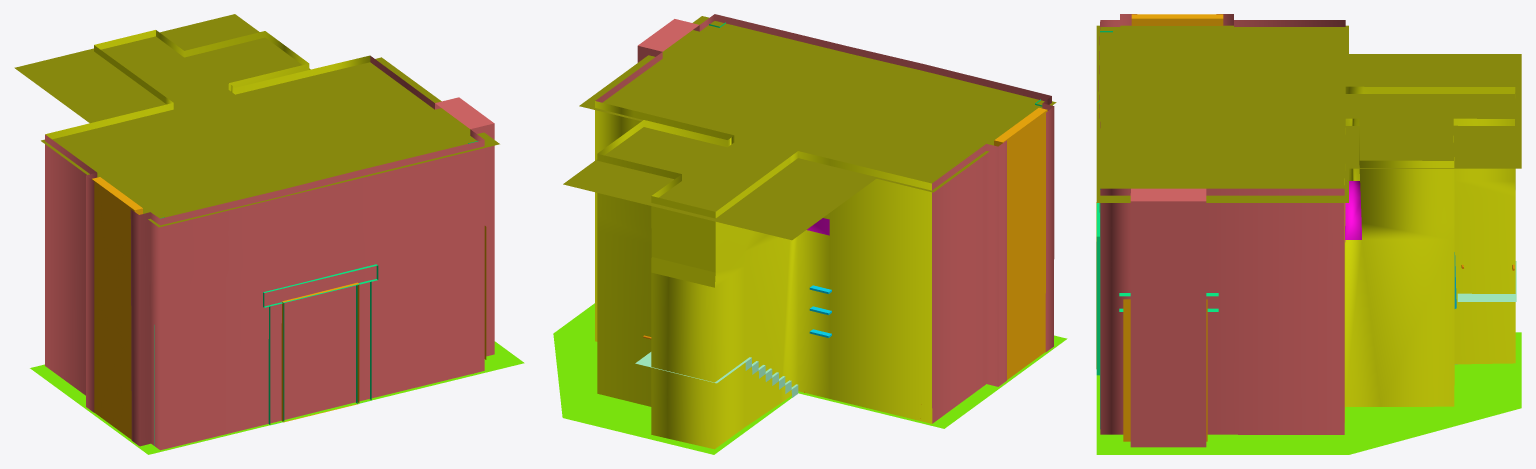
The model's file is MainGuardFoyer_UVs.fbx.
3 views of the same model, side by side, from view 1: azimuth 30°, elevation 25°; view 2: azimuth 150°, elevation 25°; view 3: azimuth 270°, elevation 25° (orthographic). The views are drawn at different scales.
Visible parts, largest first — view 1: polySurface70; view 2: polySurface70; view 3: polySurface70.
Part boxes in pixels (bbox=[...]): polySurface70: bbox=[14, 14, 524, 454]; polySurface70: bbox=[553, 14, 1067, 454]; polySurface70: bbox=[1096, 14, 1521, 454].
Size of the model in its own units: 1020 by 636 by 938.
